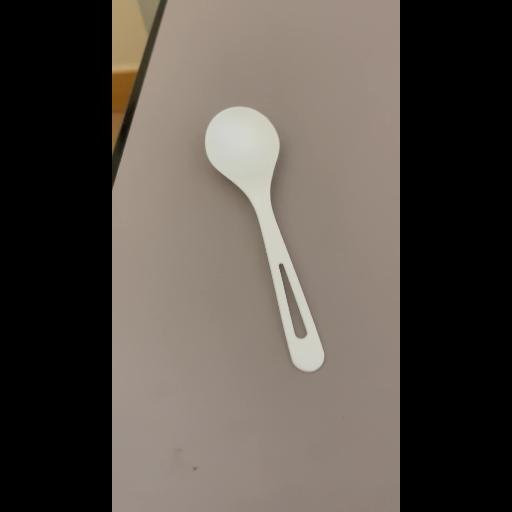utensil: (202, 105, 330, 377)
